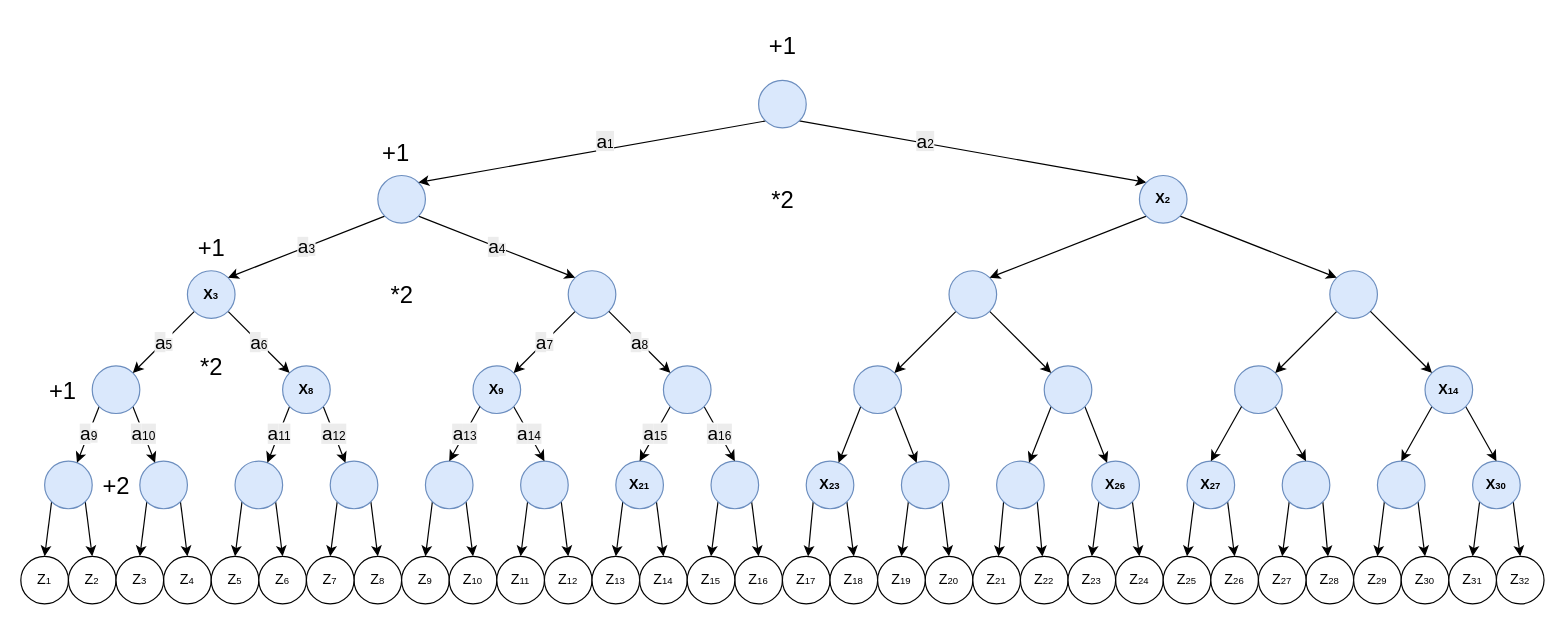
Some shapes in this 1565 by 625 pixel diagram are drawn without their labels. The centre of each missing label's shape, as x and y in pixels:
X 0: the point at 781,103
X 1: the point at 401,198
X 10: the point at 686,389
X 11: the point at 877,389
X 12: the point at 1067,389
X 13: the point at 1257,389
X 15: the point at 67,484
X 16: the point at 163,484
X 17: the point at 258,484
X 18: the point at 353,484
X 19: the point at 448,484
X 20: the point at 543,484
X 22: the point at 734,484
X 24: the point at 924,484
X 25: the point at 1019,484
X 28: the point at 1305,484
X 29: the point at 1400,484
X 4: the point at 591,294
X 5: the point at 972,294
X 6: the point at 1353,294
X 7: the point at 115,389
